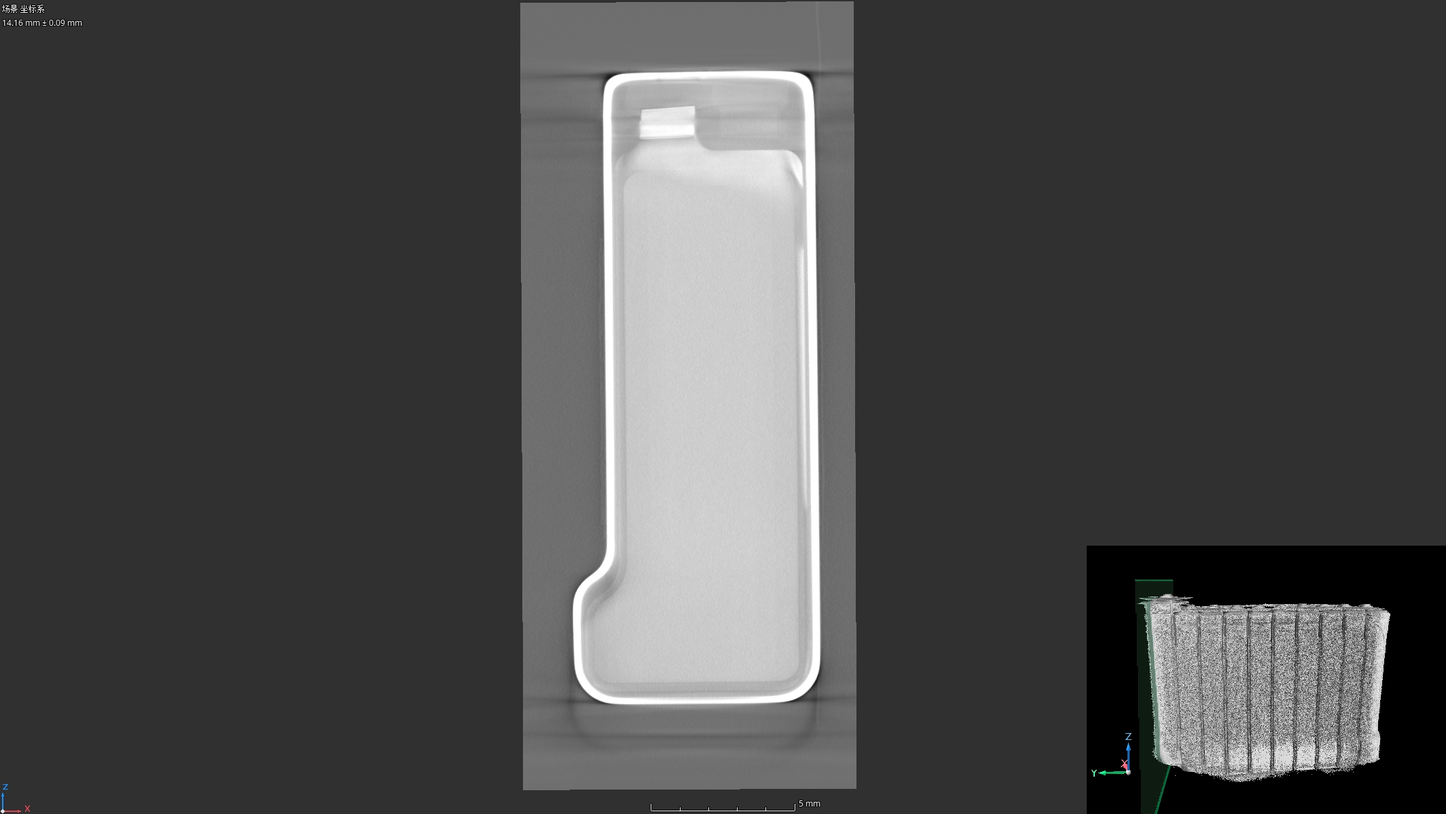damage: (783, 146, 807, 187)
